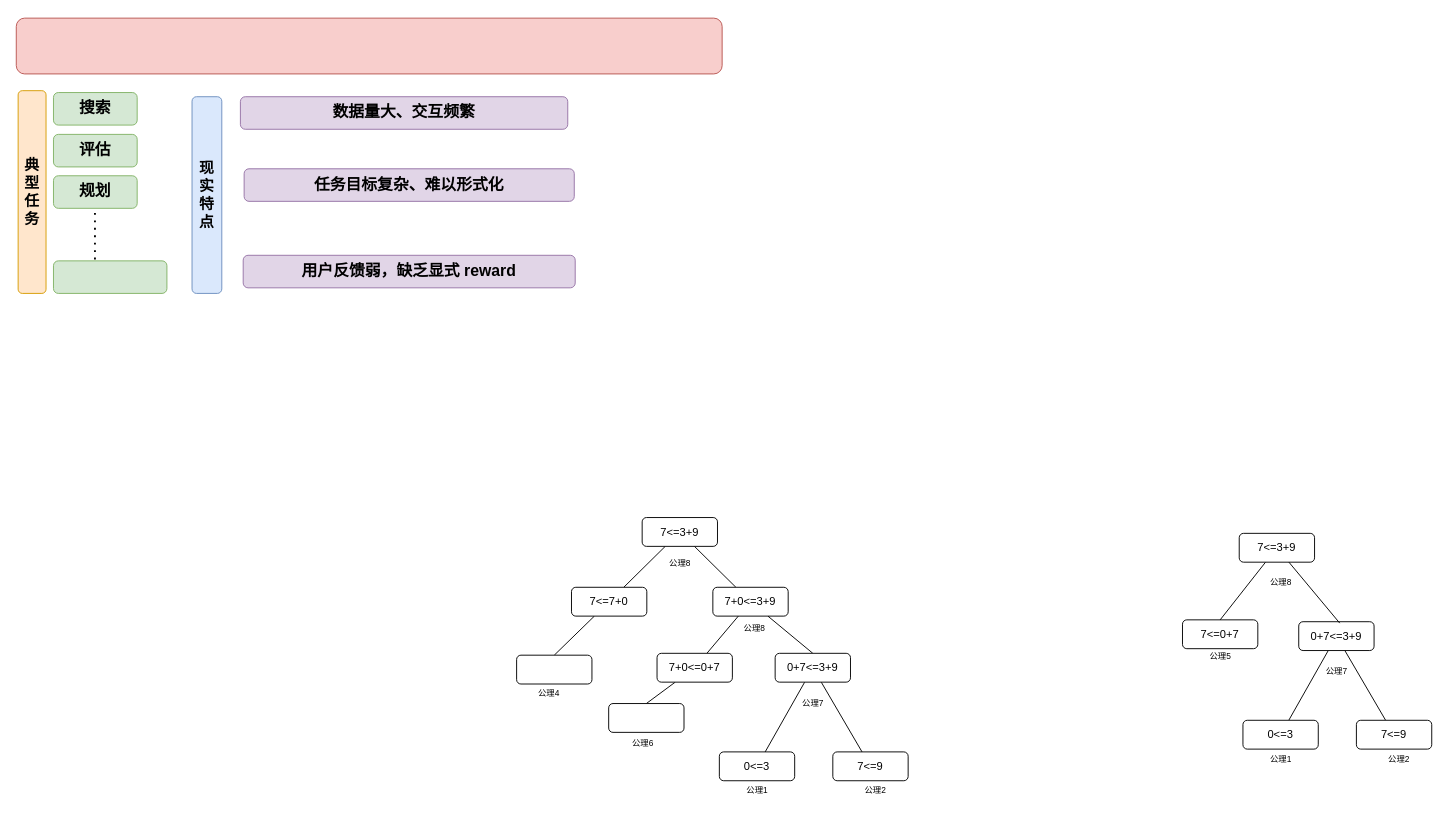
This 1448x820 diagram has some shape labels left out. The box of each missing label's shape, as (x1, y1, x2, y2) in pixels:
x+0<=0+x: (608, 703, 684, 732)
x<=x+0: (516, 654, 592, 684)
基于大模型的自主智能体: (15, 17, 722, 74)
多智能体运作: (53, 260, 167, 293)
